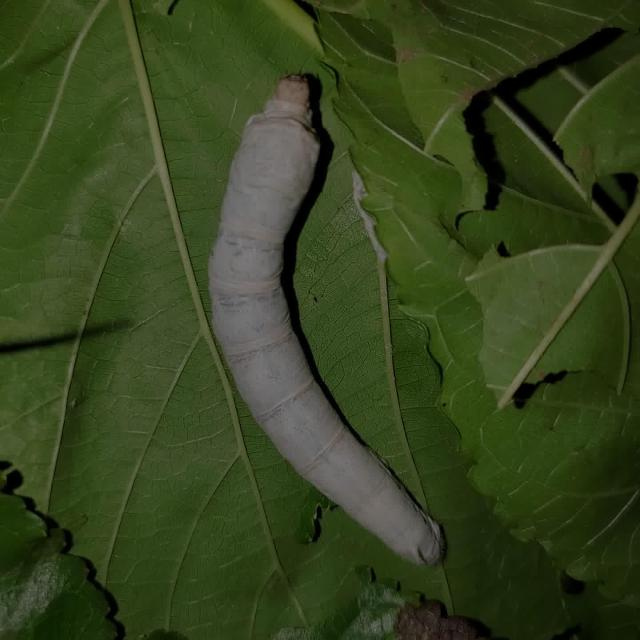Healthy: (172, 55, 473, 572)
